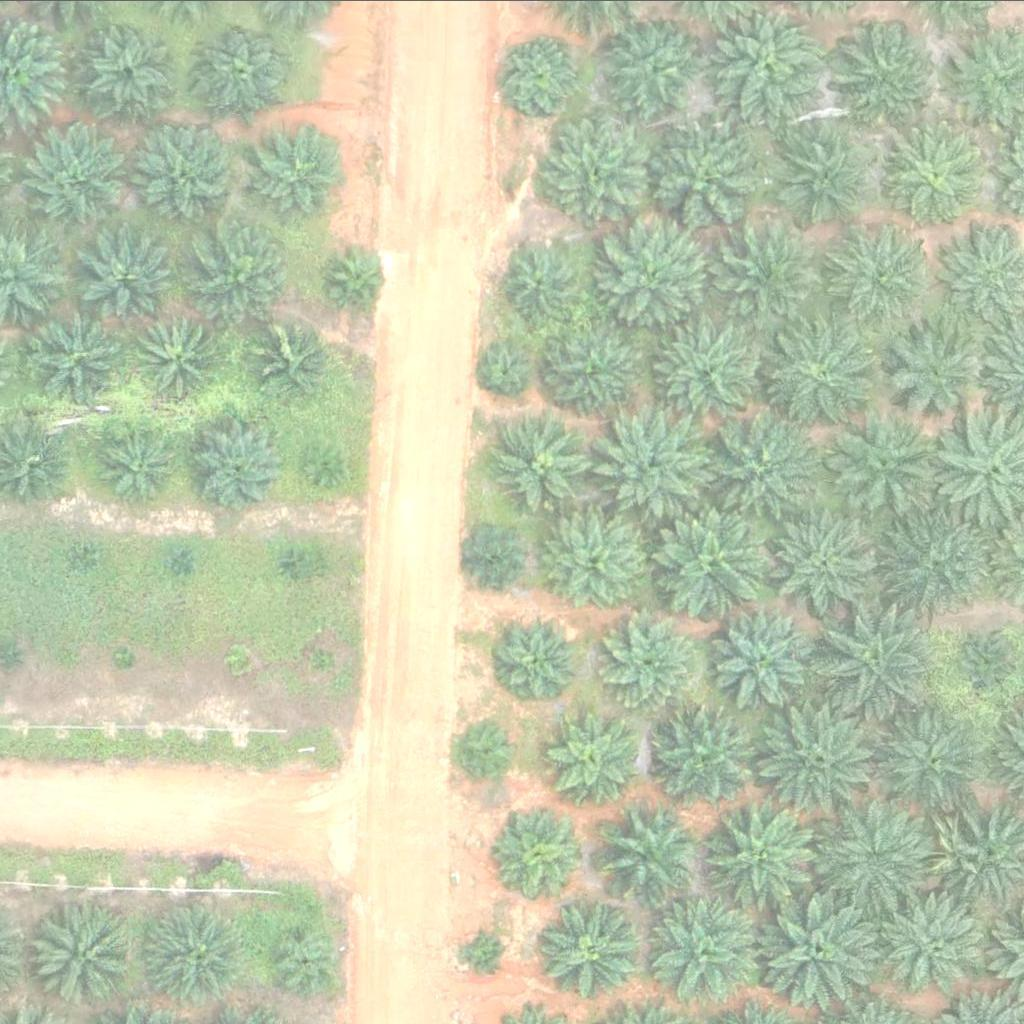Kelapa_Sawit: (759, 889, 885, 1014), (816, 796, 942, 921), (758, 700, 884, 825), (817, 595, 943, 720), (648, 494, 774, 619), (877, 498, 1003, 623), (697, 411, 823, 536), (759, 306, 885, 431), (532, 106, 658, 231), (643, 118, 769, 243), (651, 310, 776, 435), (707, 798, 821, 911), (648, 698, 762, 811), (875, 706, 988, 819), (597, 409, 710, 522), (829, 408, 942, 521), (885, 313, 998, 426), (182, 410, 295, 522), (642, 893, 755, 1005), (878, 890, 991, 1002), (709, 599, 822, 711), (766, 508, 879, 620), (600, 221, 713, 333), (712, 220, 825, 332), (24, 308, 125, 408), (191, 221, 292, 321), (136, 127, 237, 227), (246, 122, 347, 222), (602, 615, 703, 715), (543, 511, 644, 611), (491, 411, 592, 511), (545, 322, 646, 422), (779, 123, 880, 223), (880, 122, 981, 222), (835, 15, 936, 115), (28, 127, 128, 227), (195, 16, 295, 116), (31, 906, 131, 1006), (145, 901, 245, 1001), (537, 898, 637, 998), (595, 803, 695, 903), (604, 17, 704, 117), (93, 416, 182, 504), (87, 31, 175, 119), (137, 310, 225, 398), (547, 712, 635, 800), (496, 613, 584, 701), (835, 232, 923, 320), (89, 231, 177, 318), (501, 807, 589, 894), (267, 920, 343, 995), (501, 35, 577, 110), (255, 316, 330, 391), (504, 244, 579, 319), (328, 249, 391, 312), (466, 526, 529, 589), (459, 717, 522, 779), (483, 344, 533, 394), (304, 444, 342, 482), (467, 930, 505, 967), (80, 547, 105, 572), (115, 645, 140, 670), (227, 649, 252, 674), (311, 646, 336, 671), (169, 546, 194, 571), (279, 553, 304, 578)
